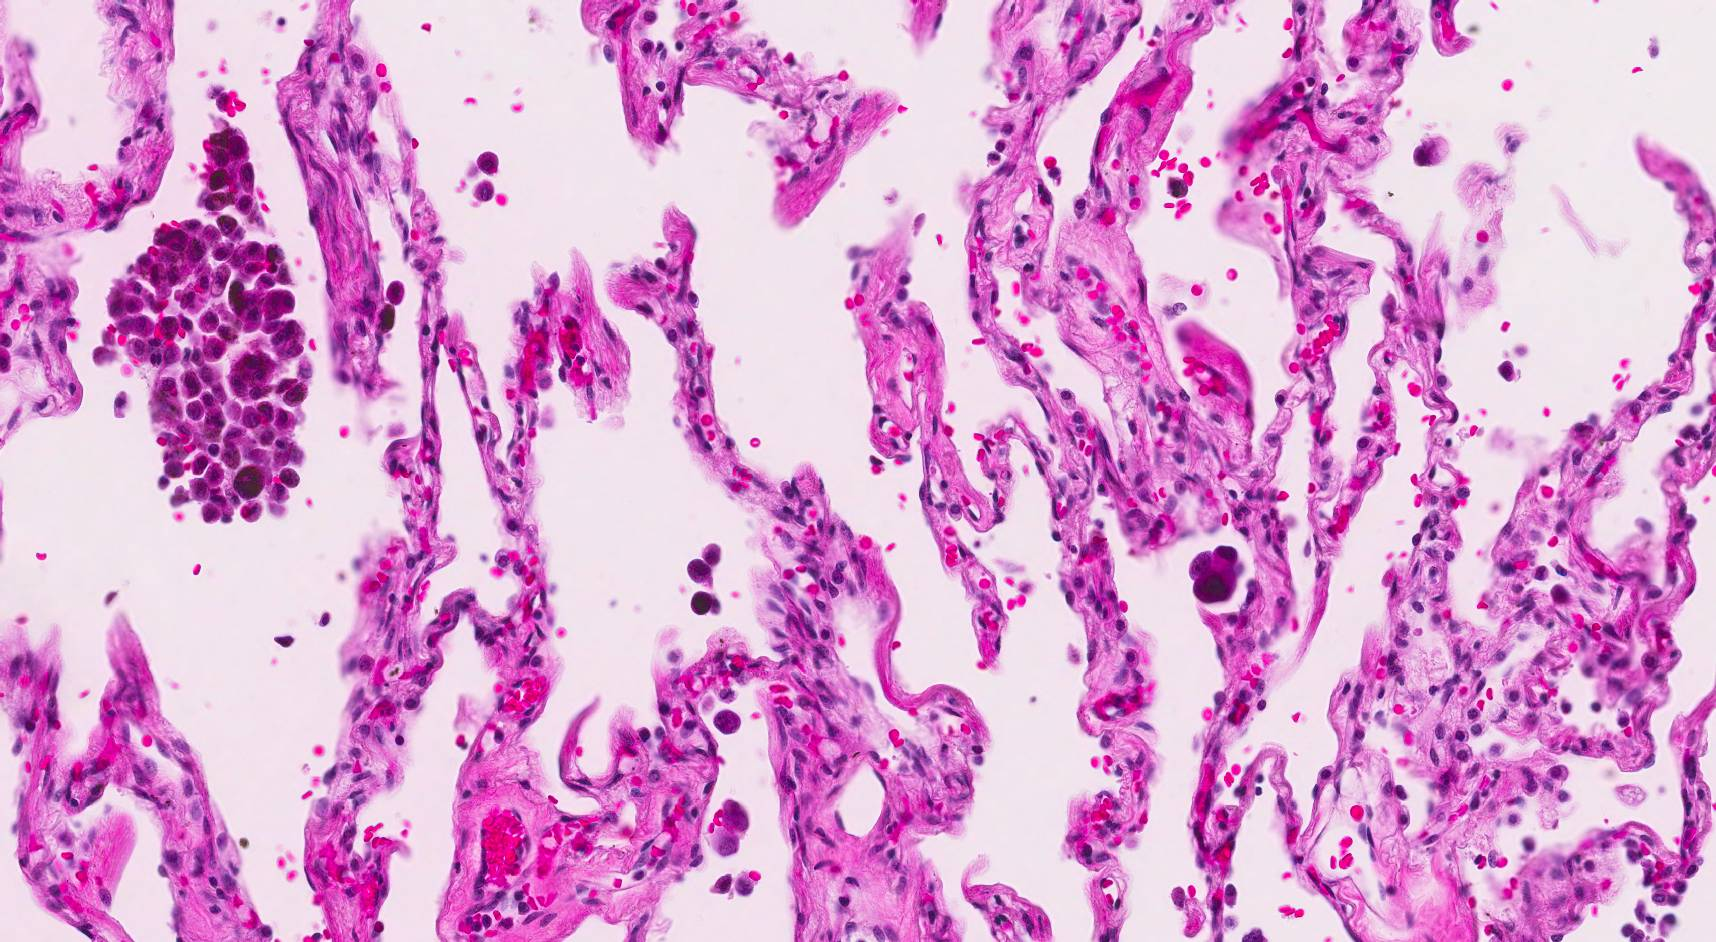stas: (1188, 543, 1247, 605)
